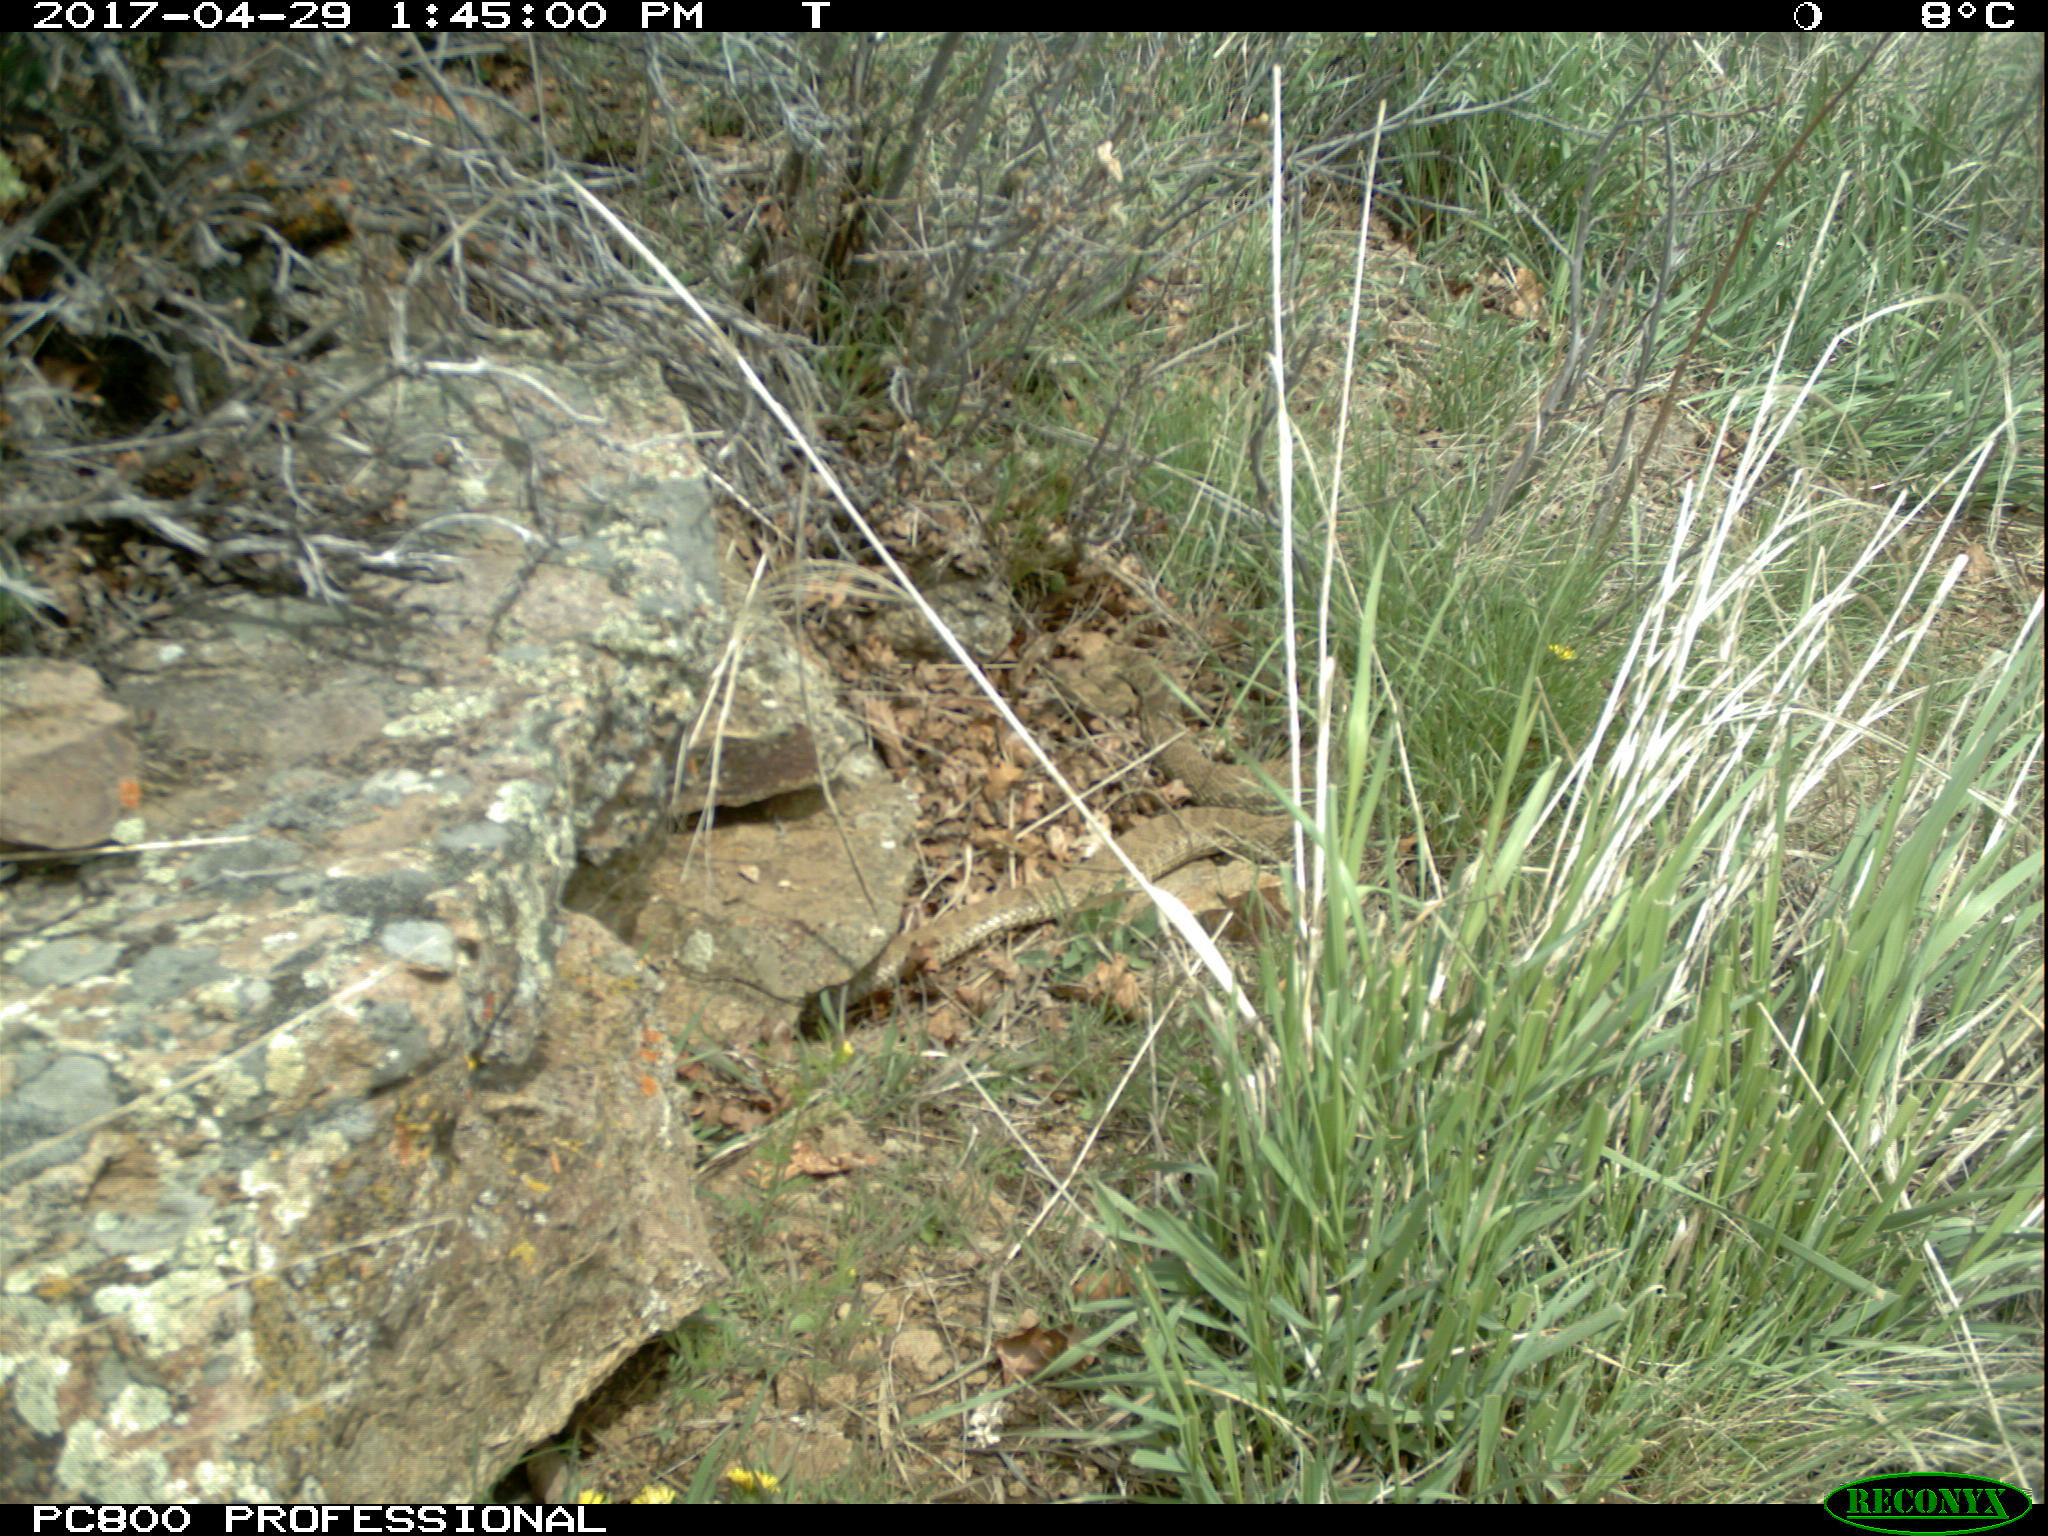snake: (880, 800, 1284, 945), (1051, 639, 1314, 803)
